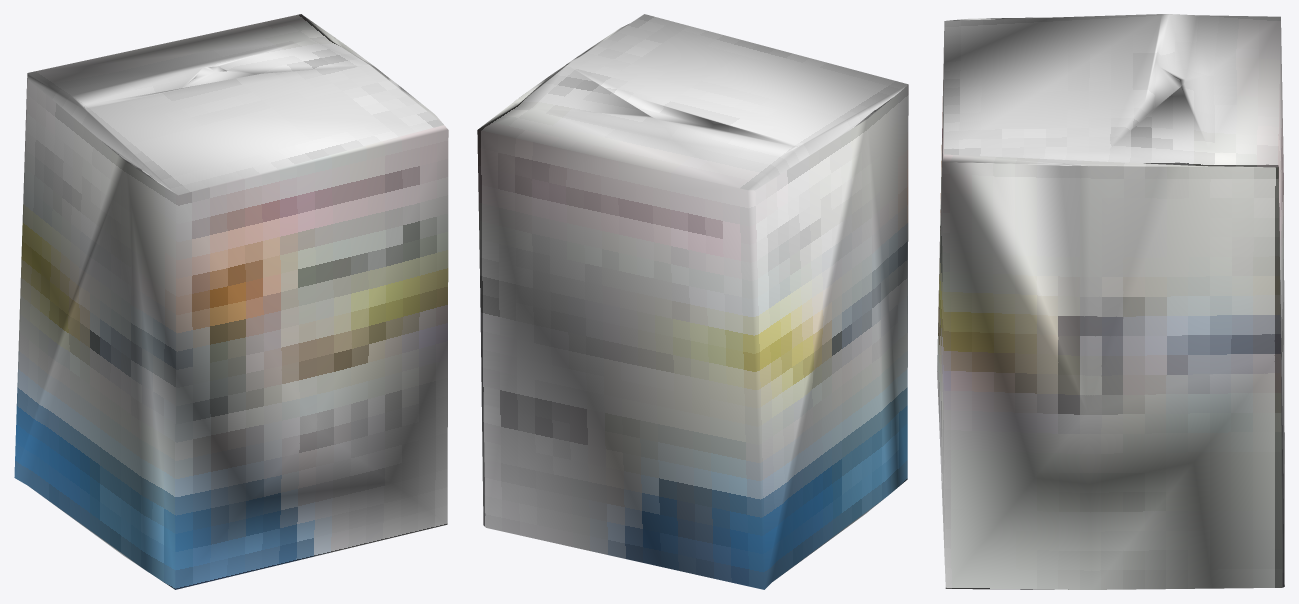
The model's file is Office_Depot_HP_920XL_920_High_Yield_Black_and_Standard_CMY_Color_Ink_Cartridges-low.glb.
3 renders of one model, left to right at view 1: azimuth 30°, elevation 25°; view 2: azimuth 150°, elevation 25°; view 3: azimuth 270°, elevation 25°, orthographic. The views are drawn at different scales.
Visible parts, largest first — view 1: Office_Depot_HP_920XL_920_High_Yield_Black_and_Standard_CMY_; view 2: Office_Depot_HP_920XL_920_High_Yield_Black_and_Standard_CMY_; view 3: Office_Depot_HP_920XL_920_High_Yield_Black_and_Standard_CMY_.
Part boxes in pixels (left/top/right/bottom): Office_Depot_HP_920XL_920_High_Yield_Black_and_Standard_CMY_: left=14, top=14, right=448, bottom=589; Office_Depot_HP_920XL_920_High_Yield_Black_and_Standard_CMY_: left=477, top=14, right=908, bottom=589; Office_Depot_HP_920XL_920_High_Yield_Black_and_Standard_CMY_: left=937, top=14, right=1284, bottom=589.
Size of the model in its own units: 0.086 by 0.1164 by 0.0834.
1 material, 1 textured.
